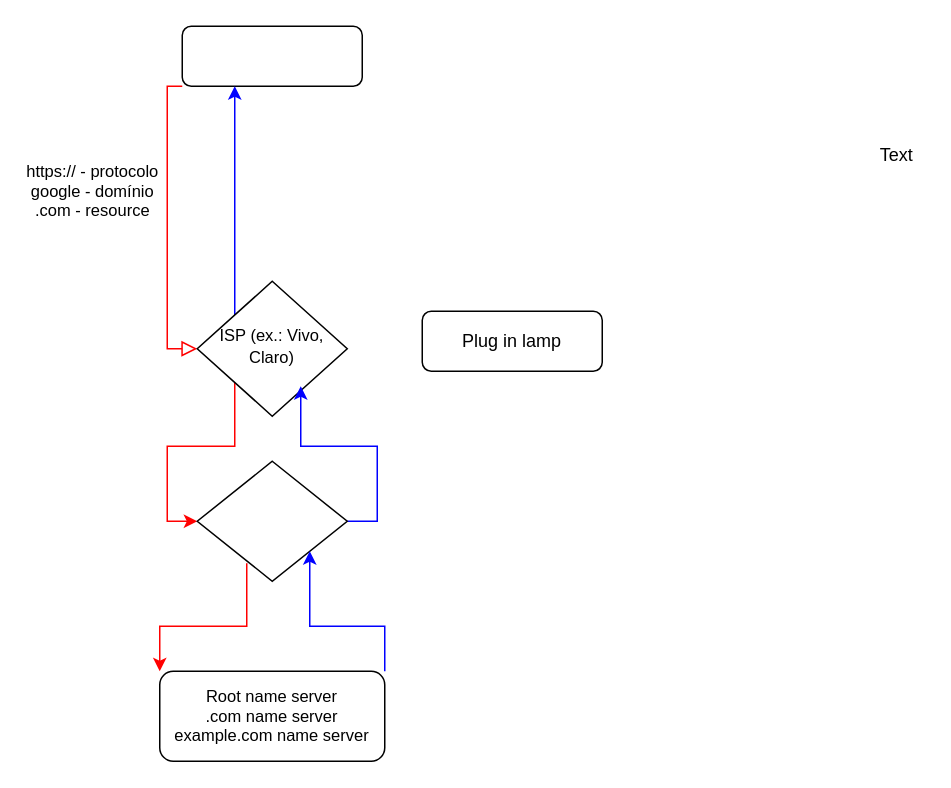
Some shapes in this 951 by 788 pixel diagram are drawn without their labels. Each missing label, with the box of its shape:
Cliente: (181, 25, 362, 86)
DNS: (196, 460, 347, 581)
